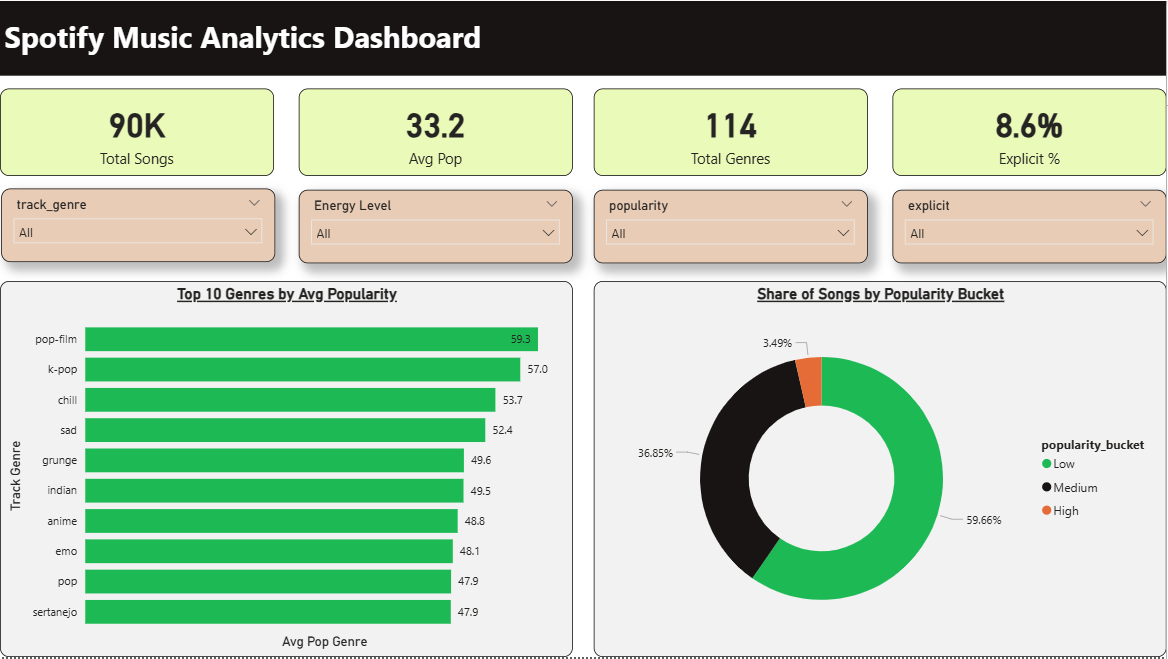

The page's visual inventory and layout, read from the dashboard file:
{"tool":"powerbi","page":{"name":"Overview","canvas":[1280,720],"ordinal":0},"visuals":[{"type":"shape","box":[0,0,1280.3,82],"z":0},{"type":"textbox","box":[0,12.3,1280,67.2],"z":1000},{"type":"card","fields":{"Values":["tracks_unique.Total Songs"]},"box":[0,96.1,300.5,96.1],"z":2000},{"type":"card","fields":{"Values":["tracks_unique.Avg Pop"]},"box":[328,96.1,300.5,96.1],"z":3000},{"type":"card","fields":{"Values":["tracks_unique.Total Genres"]},"box":[651.8,96.1,300.5,96.1],"z":4000},{"type":"card","fields":{"Values":["tracks_unique.Explicit %"]},"box":[979.8,96.1,300.5,96.1],"z":5000},{"type":"clusteredBarChart","title":"Top 10 Genres by Avg Popularity","fields":{"Category":["tracks.track_genre"],"Y":["tracks_unique.Avg Pop Genre"]},"box":[0,307.4,628.5,413],"z":6000},{"type":"donutChart","title":"Share of Songs by Popularity Bucket","fields":{"Category":["tracks_unique.popularity_bucket"],"Y":["tracks_unique.Total Songs"]},"box":[651.8,307.4,628.5,413],"z":7000},{"type":"slicer","fields":{"Values":["tracks_unique.track_genre"]},"box":[1.4,205.8,300.5,81],"z":8000},{"type":"slicer","fields":{"Values":["tracks_unique.explicit"]},"box":[979.8,207.2,300.5,81],"z":9000},{"type":"slicer","fields":{"Values":["tracks_unique.popularity"]},"box":[651.8,207.2,300.5,81],"z":10000},{"type":"slicer","fields":{"Values":["tracks_unique.Energy Level"]},"box":[328,207.2,300.5,81],"z":11000}]}

Visuals, with their boxes in screenshot pixels (x1, y1, x2, y2), scaled from the page's 1280x720 canvas onto the 1168x659 screenshot:
shape: pyautogui.locateOnScreen(0, 0, 1167, 75)
textbox: pyautogui.locateOnScreen(0, 11, 1167, 73)
card - tracks_unique.Total Songs: pyautogui.locateOnScreen(0, 88, 274, 176)
card - tracks_unique.Avg Pop: pyautogui.locateOnScreen(299, 88, 574, 176)
card - tracks_unique.Total Genres: pyautogui.locateOnScreen(595, 88, 869, 176)
card - tracks_unique.Explicit %: pyautogui.locateOnScreen(894, 88, 1167, 176)
"Top 10 Genres by Avg Popularity" clusteredBarChart: pyautogui.locateOnScreen(0, 281, 574, 658)
"Share of Songs by Popularity Bucket" donutChart: pyautogui.locateOnScreen(595, 281, 1167, 658)
slicer - tracks_unique.track_genre: pyautogui.locateOnScreen(1, 188, 275, 263)
slicer - tracks_unique.explicit: pyautogui.locateOnScreen(894, 190, 1167, 264)
slicer - tracks_unique.popularity: pyautogui.locateOnScreen(595, 190, 869, 264)
slicer - tracks_unique.Energy Level: pyautogui.locateOnScreen(299, 190, 574, 264)
